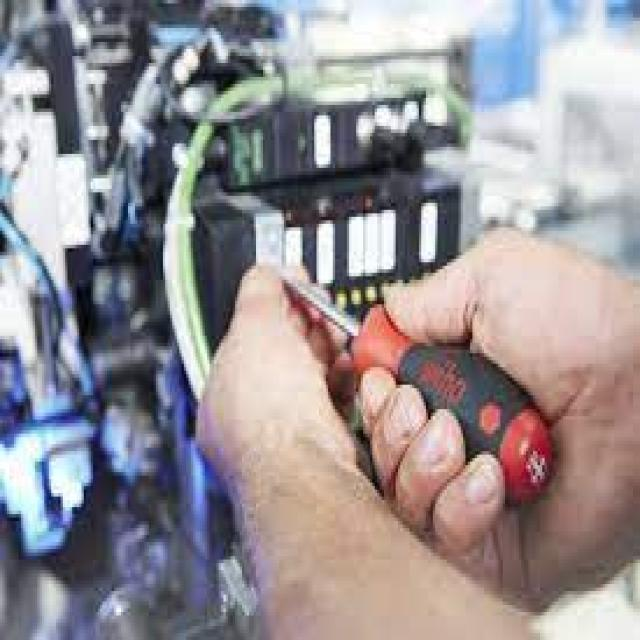screwdriver: (255, 244, 558, 503)
